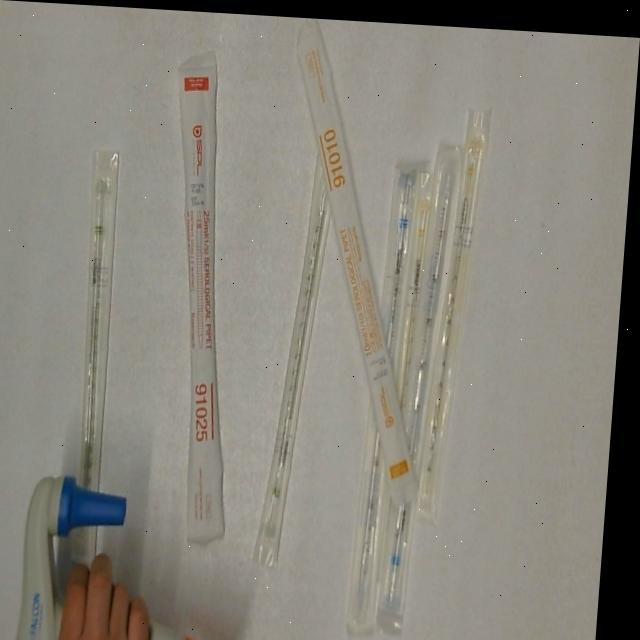Pipette Controller: (22, 468, 249, 640)
Serelogical Pipet 1 mL - Sealed: (423, 96, 498, 517), (398, 153, 445, 414)
Serelogical Pipet 10 mL - Sealed: (268, 16, 457, 507)
Serelogical Pipet 2 mL - Sealed: (259, 134, 345, 566), (70, 147, 135, 572)
Serelogical Pipet 25 mL - Sealed: (151, 42, 265, 545)
Serelogical Pipet 5 mL - Sealed: (386, 133, 470, 615), (353, 157, 429, 637)
